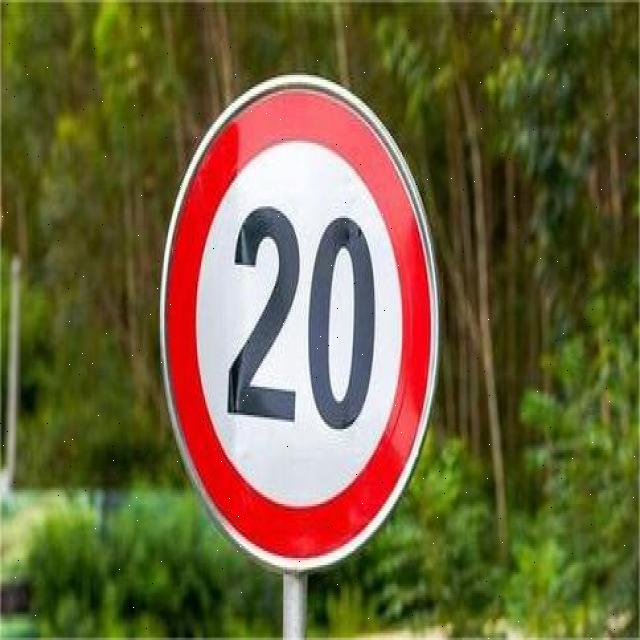speed limit 20: (158, 71, 440, 575)
